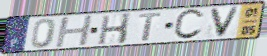0: (29, 17, 58, 50)
C: (172, 8, 206, 42)
H: (54, 14, 96, 49), (96, 12, 133, 46)
T: (138, 12, 163, 42)
V: (208, 6, 242, 39)
